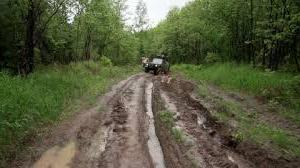vehicle_track: (156, 77, 290, 168), (42, 73, 166, 167)
